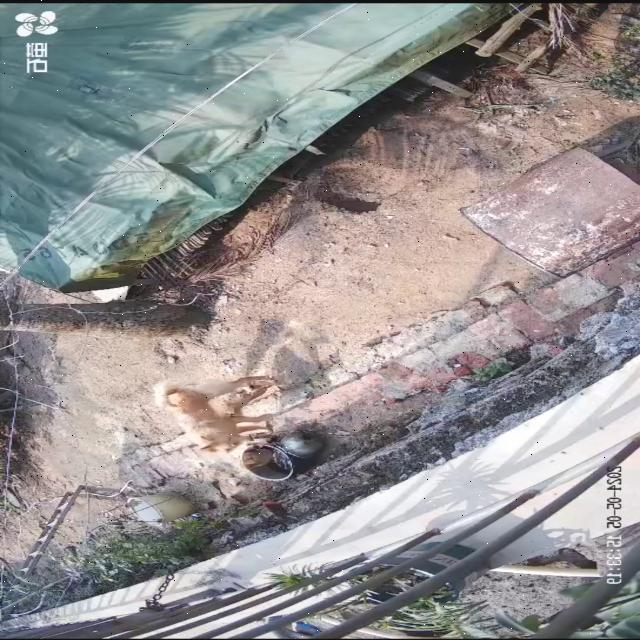dog: (153, 375, 278, 453)
